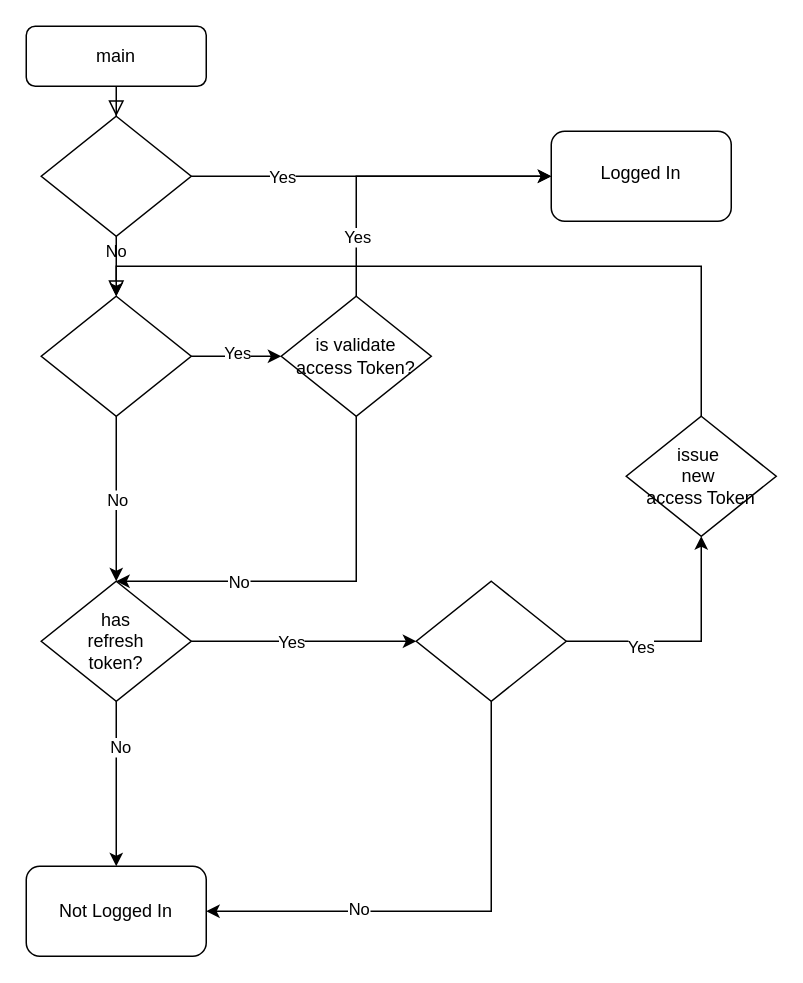
Some shapes in this 803 by 983 pixel diagram are drawn without their labels. Here are the shapes that lost their labels. From the top down, the centre of each, then its label:
At point (115, 175): "has session".
At point (115, 355): "has access token?".
At point (490, 640): "is validate refresh token?".
